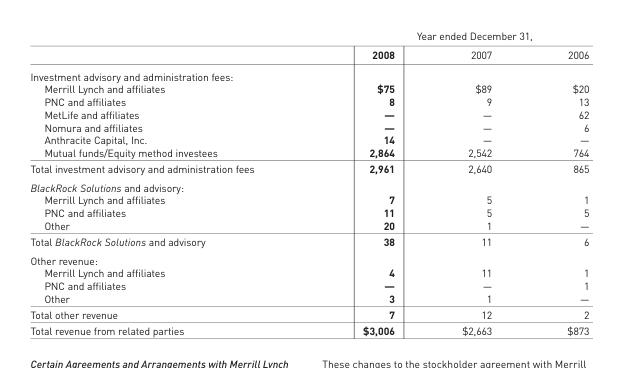table: (29, 28, 588, 336)
table column: (29, 28, 307, 336), (307, 28, 427, 336), (427, 28, 528, 336), (528, 28, 588, 336)
table column header: (29, 28, 588, 64)
table projected row header: (29, 64, 588, 81), (29, 177, 588, 192), (29, 250, 588, 265)
table row: (29, 44, 588, 64), (29, 159, 588, 177), (29, 232, 588, 250), (29, 64, 588, 81), (29, 305, 588, 322), (29, 28, 588, 44), (29, 177, 588, 192), (29, 250, 588, 265), (29, 145, 588, 159), (29, 218, 588, 232), (29, 291, 588, 305), (29, 322, 588, 336), (29, 81, 588, 94), (29, 94, 588, 107), (29, 107, 588, 120), (29, 132, 588, 145), (29, 192, 588, 205), (29, 205, 588, 218), (29, 265, 588, 278), (29, 278, 588, 291), (29, 120, 588, 132)
table spanning cell: (307, 28, 588, 44)
